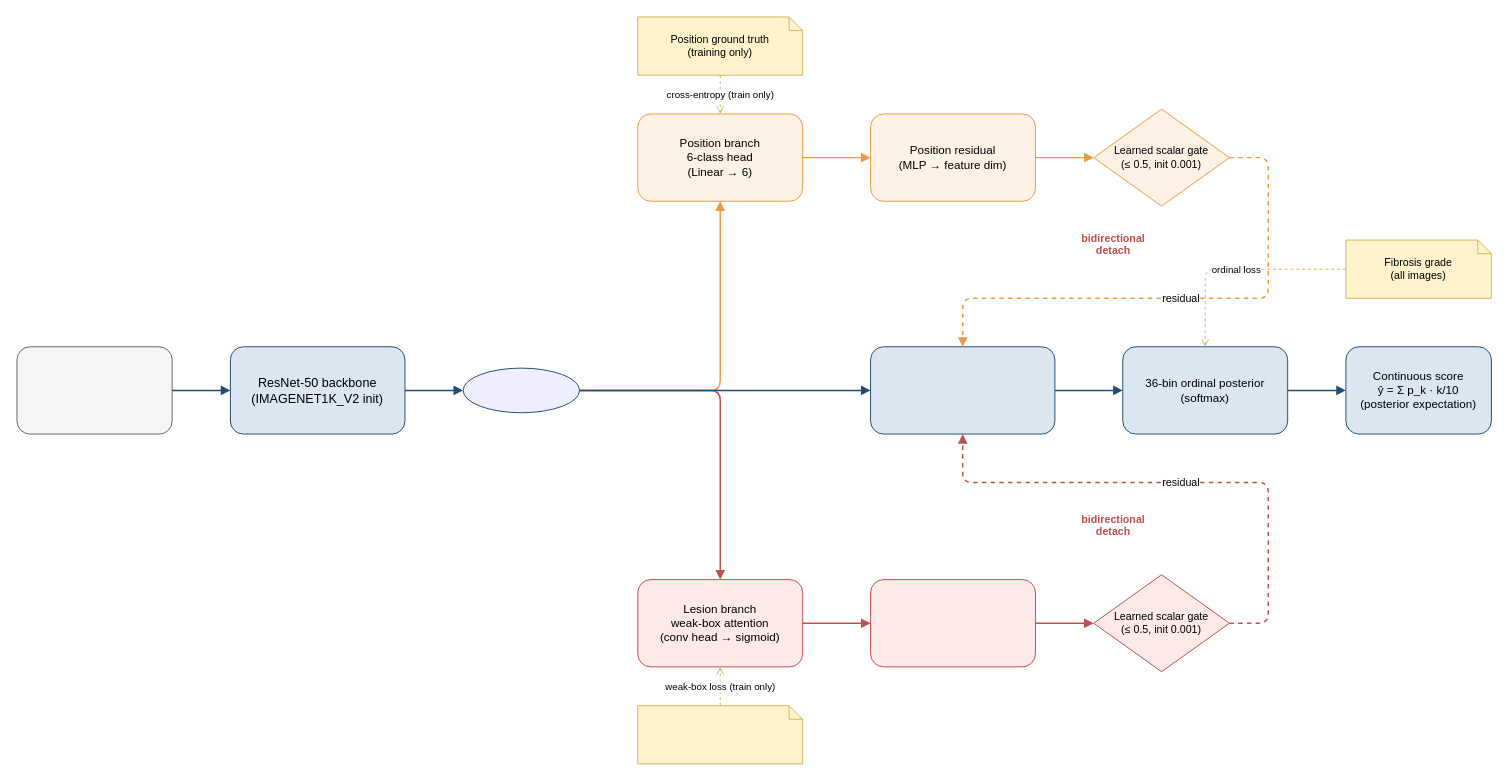
This 1508x781 diagram has some shape labels left out. Here are the shapes that lost their labels. From the top down, the centre of each, then its label:
the point at 94,390: Input image 3 × 512 × 512 (ImageNet normalization)
the point at 521,390: Backbone feature
the point at 962,390: Grading head LayerNorm → Linear(512) → ReLU → Linear(36)
the point at 952,623: Lesion residual (weighted feature map)
the point at 720,734: Weak boxes (F1–F3 images only)
